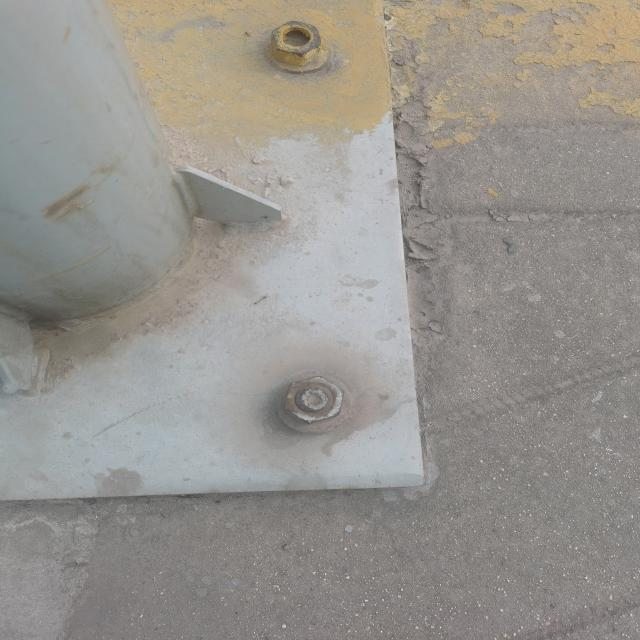bolt nut: (277, 374, 349, 428), (267, 20, 327, 68)
